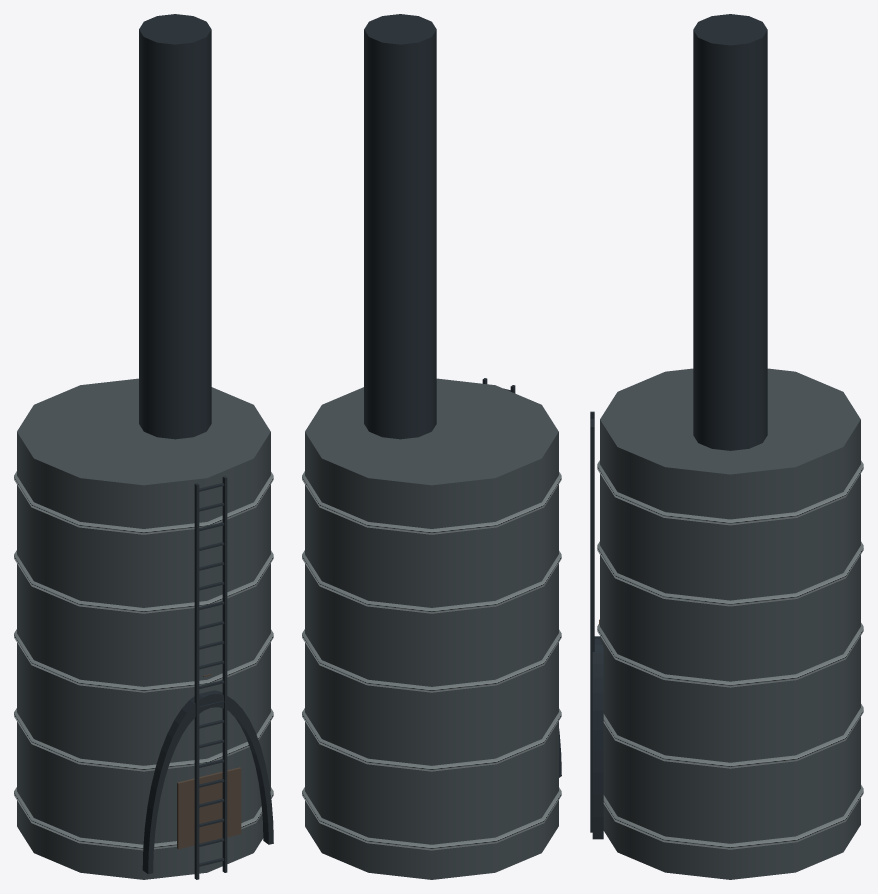
The model's file is furnace-2.glb.
3 renders of one model, left to right at view 1: azimuth 30°, elevation 25°; view 2: azimuth 150°, elevation 25°; view 3: azimuth 270°, elevation 25°, orthographic. The views are drawn at different scales.
Visible parts, largest first — view 1: furnace/1/KR-230-2; view 2: furnace/1/KR-230-2; view 3: furnace/1/KR-230-2.
Part boxes in pixels (left/top/right/bottom): furnace/1/KR-230-2: left=14, top=14, right=273, bottom=879; furnace/1/KR-230-2: left=302, top=14, right=561, bottom=879; furnace/1/KR-230-2: left=590, top=14, right=863, bottom=879.
Size of the model in its own units: 7.15 by 24 by 7.34.
